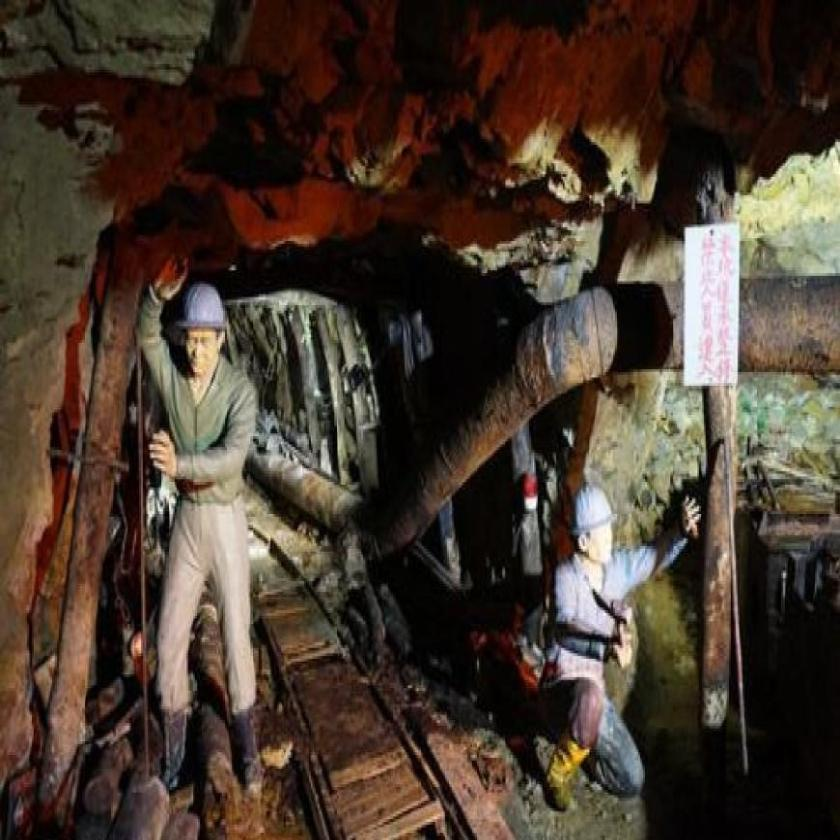Con_casco: (178, 277, 228, 380), (569, 480, 616, 579)
